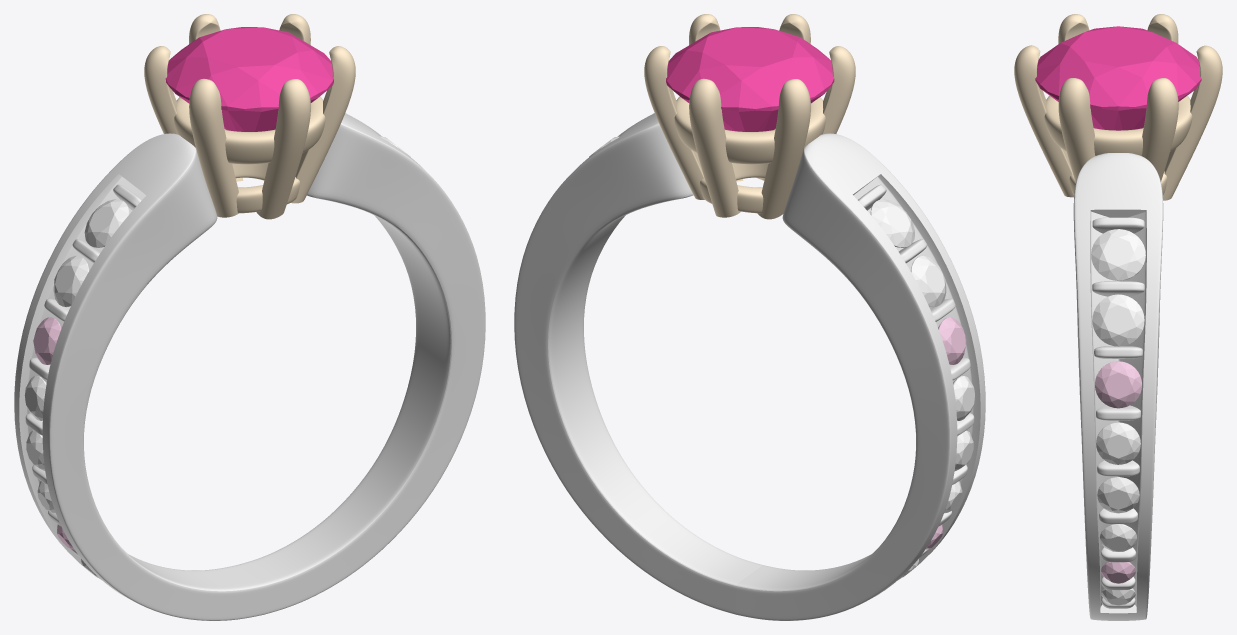
File: puzzle_37.glb
3 renders of one model, left to right at view 1: azimuth 30°, elevation 25°; view 2: azimuth 150°, elevation 25°; view 3: azimuth 270°, elevation 25°, orthographic.
Visible parts, largest first — view 1: G2_Obj_9_Gold2, G2_Obj_44_Gem11_X, G2_Obj_6_Gold1, G2_Obj_5_Gold1, G2_Obj_7_Gold1, G2_Obj_1_Gold1, G2_Obj_4_Gold1, G1_Obj_43_Gem5, G2_Obj_2_Gold1, G1_Obj_42_Gem7, G1_Obj_41_Gem8, G1_Obj_40_Gem9; view 2: G2_Obj_9_Gold2, G2_Obj_44_Gem11_X, G2_Obj_3_Gold1, G2_Obj_4_Gold1, G2_Obj_8_Gold1, G2_Obj_1_Gold1, G2_Obj_5_Gold1, G1_Obj_43_Gem5, G2_Obj_2_Gold1, G1_Obj_42_Gem7, G1_Obj_41_Gem8, G1_Obj_40_Gem9; view 3: G2_Obj_9_Gold2, G2_Obj_44_Gem11_X, G2_Obj_3_Gold1, G2_Obj_6_Gold1, G2_Obj_7_Gold1, G2_Obj_8_Gold1, G2_Obj_1_Gold1, G1_Obj_17_Gem5, G1_Obj_16_Gem7, G1_Obj_15_Gem8, G1_Obj_14_Gem9, G1_Obj_13_Gem5 (+13 smaller).
Part boxes in pixels (<box>): G2_Obj_9_Gold2: <box>14,113,485,620</box>; G2_Obj_44_Gem11_X: <box>165,27,333,131</box>; G2_Obj_6_Gold1: <box>256,79,310,219</box>; G2_Obj_5_Gold1: <box>189,78,238,217</box>; G2_Obj_7_Gold1: <box>290,46,355,203</box>; G2_Obj_1_Gold1: <box>174,96,325,164</box>; G2_Obj_4_Gold1: <box>144,46,176,134</box>; G1_Obj_43_Gem5: <box>84,199,129,247</box>; G2_Obj_2_Gold1: <box>232,163,299,213</box>; G1_Obj_42_Gem7: <box>53,255,88,307</box>; G1_Obj_41_Gem8: <box>33,317,61,364</box>; G1_Obj_40_Gem9: <box>24,376,46,420</box>; G2_Obj_9_Gold2: <box>514,113,985,620</box>; G2_Obj_44_Gem11_X: <box>666,27,834,131</box>; G2_Obj_3_Gold1: <box>689,78,740,217</box>; G2_Obj_4_Gold1: <box>757,79,810,219</box>; G2_Obj_8_Gold1: <box>644,46,704,199</box>; G2_Obj_1_Gold1: <box>674,96,825,164</box>; G2_Obj_5_Gold1: <box>823,46,855,134</box>; G1_Obj_43_Gem5: <box>870,199,914,247</box>; G2_Obj_2_Gold1: <box>700,163,767,213</box>; G1_Obj_42_Gem7: <box>910,256,946,307</box>; G1_Obj_41_Gem8: <box>938,317,966,364</box>; G1_Obj_40_Gem9: <box>953,376,975,420</box>; G2_Obj_9_Gold2: <box>1073,153,1163,620</box>; G2_Obj_44_Gem11_X: <box>1035,26,1201,130</box>; G2_Obj_3_Gold1: <box>1162,45,1222,200</box>; G2_Obj_6_Gold1: <box>1014,45,1074,197</box>; G2_Obj_7_Gold1: <box>1058,78,1095,182</box>; G2_Obj_8_Gold1: <box>1142,78,1178,181</box>; G2_Obj_1_Gold1: <box>1044,95,1192,155</box>; G1_Obj_17_Gem5: <box>1091,229,1145,280</box>; G1_Obj_16_Gem7: <box>1092,294,1144,346</box>; G1_Obj_15_Gem8: <box>1095,361,1141,408</box>; G1_Obj_14_Gem9: <box>1096,422,1140,464</box>; G1_Obj_13_Gem5: <box>1097,477,1139,513</box>.
Bounding box in the file's own units: 2.01 × 2.44 × 0.8375.
